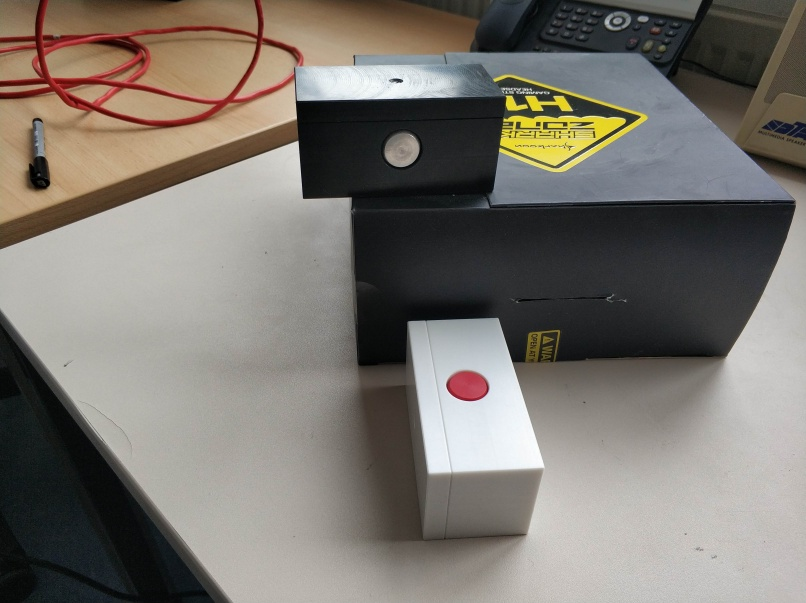black+black+silver: (291, 61, 510, 202)
white+white+red: (405, 316, 549, 544)
